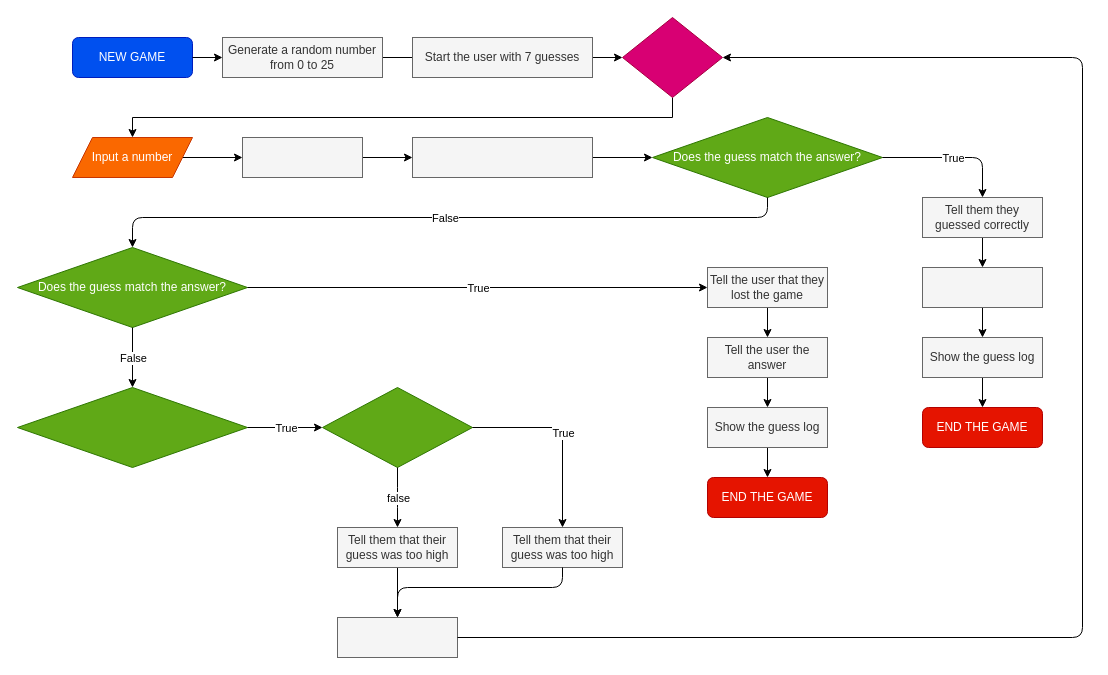
This 1108x675 diagram has some shape labels left out. The shapes that lost their labels are listed below. From the top down, each one's centre as x and y in pixels, then its label:
At (x=672, y=57): "While True".
At (x=302, y=157): "Add the guess to the list".
At (x=502, y=157): "Subtract 1 from the users remaining guesses".
At (x=982, y=287): "Tell them how many guesses they used".
At (x=132, y=427): "Is the guess too high or too low?".
At (x=397, y=427): "Is the guess too high".
At (x=397, y=637): "Tell them how many guesses remain".
